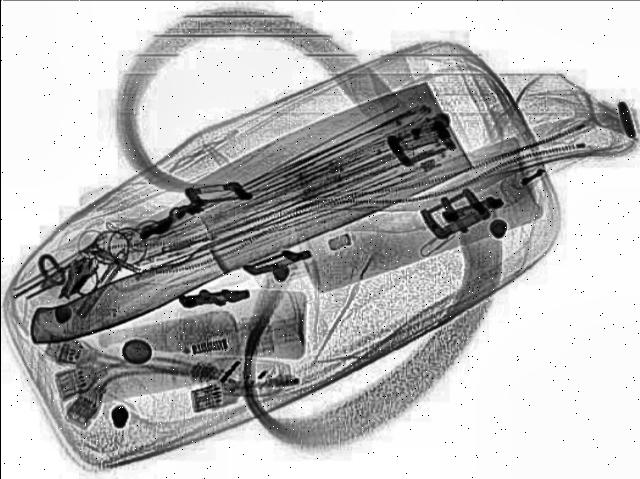Knife: (0, 86, 488, 344)
